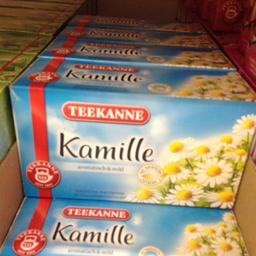tea: (9, 57, 254, 209)
